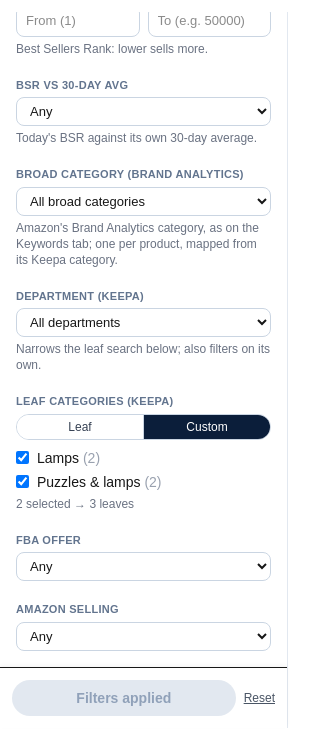
it: ProductFilterPanel categories (spec 2026-10-12 §5.1) › the dirty check ignores the order of the custom ids: unchecking and re-checking a box is no change
(page scrolled)
Click the checkbox labelled "Lamps (2)". click: (22, 458)
box: [16,451,29,464]
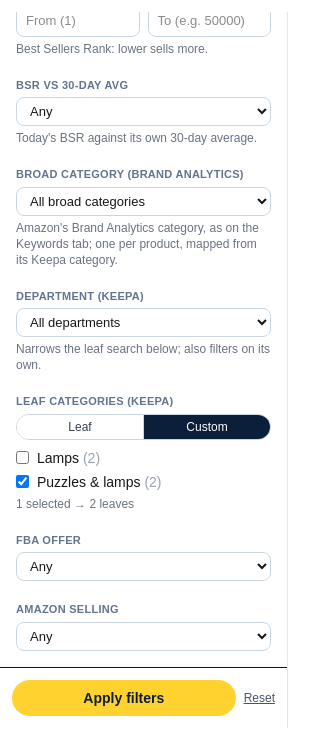
Result: the button "Apply filters" is enabled at [12,680,236,716]
Click the checkbox labelled "Lamps (2)". click: (22, 458)
box: [16,451,29,464]
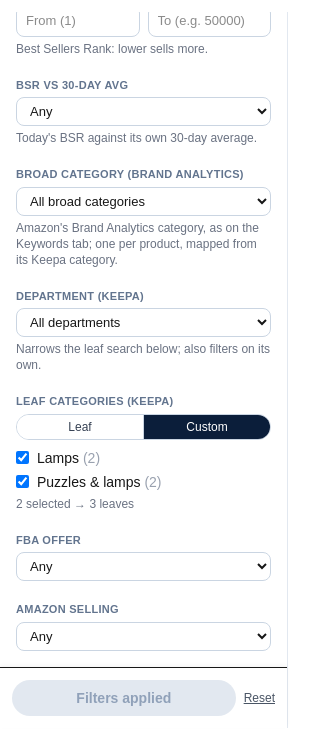
Result: the button "Filters applied" is disabled at [12,680,236,716]
